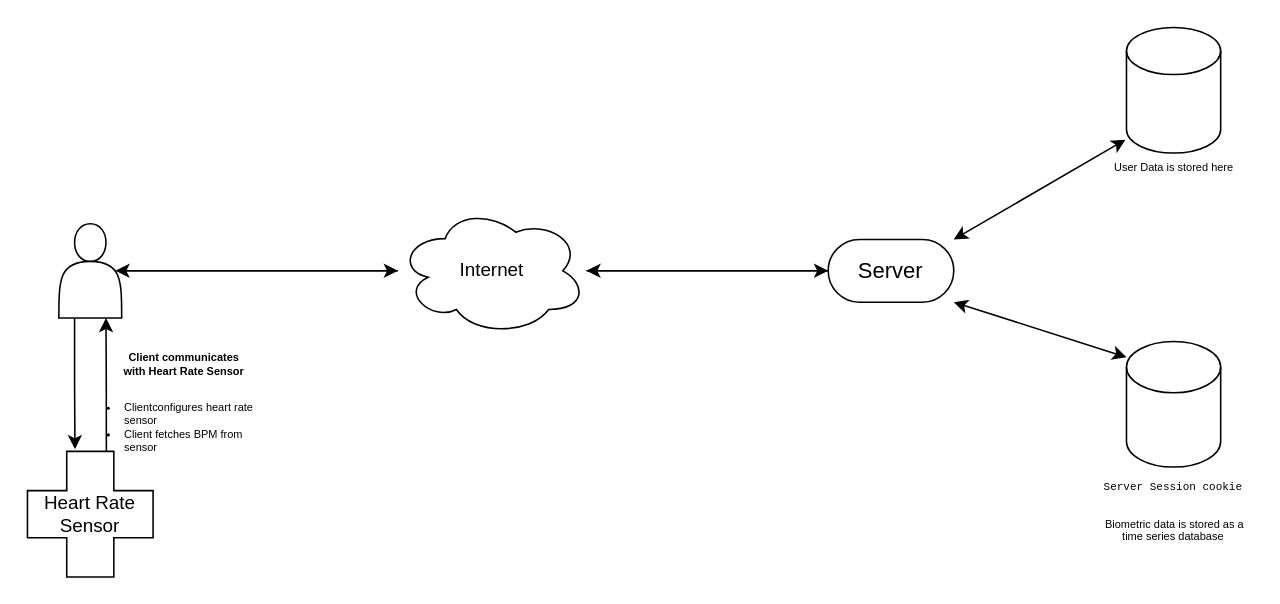
This 1280x604 diagram has some shape labels left out. The shapes that lost their labels are listed below. From the top down, each one's centre as x and y in pixels, then its label:
(1173,89): MySQL
(1173,403): Redis
